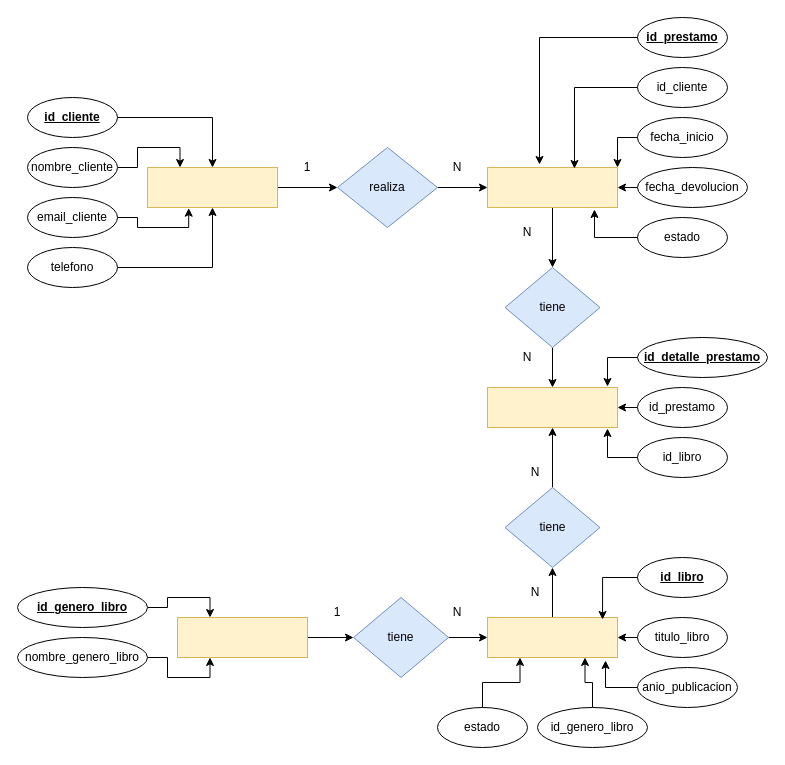
Image size: 785x765. Some labels were removed from this diagram. Here are the shapes that lost their labels. From the top down, the box of each, then its label:
(146, 166, 278, 208): clientes
(486, 166, 618, 208): prestamos
(486, 386, 618, 428): detalle_prestamos
(176, 616, 308, 658): genero_libros
(486, 616, 618, 658): libros
